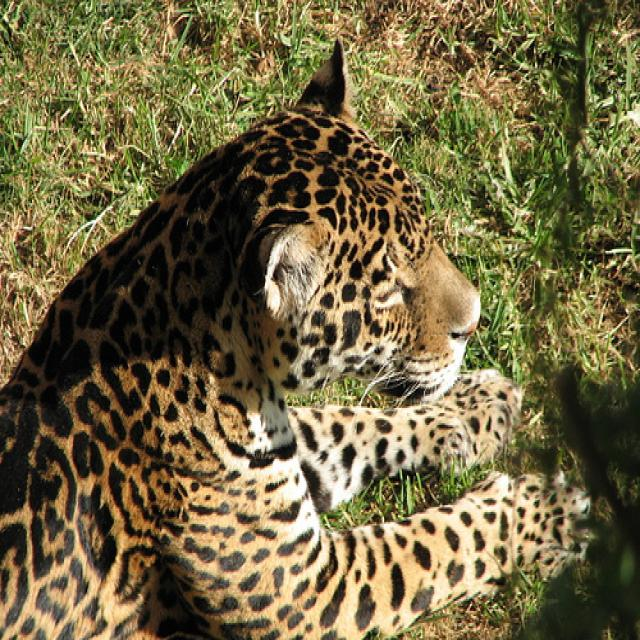Leopard: (0, 33, 595, 633)
